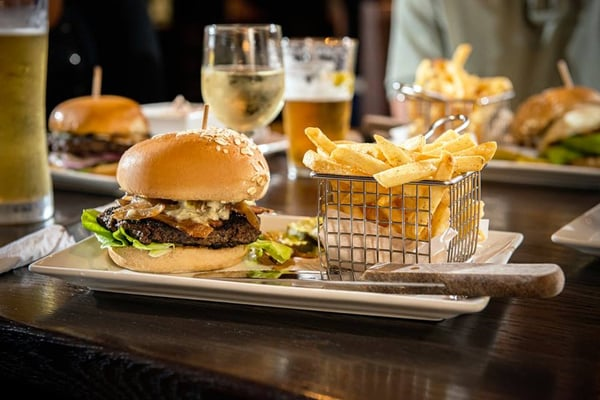soup: (80, 129, 273, 273), (47, 94, 151, 177)
